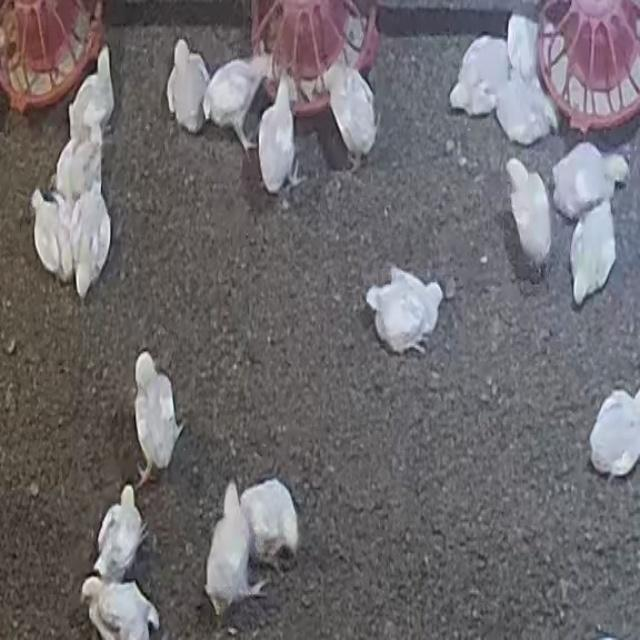chicken: (205, 480, 261, 618), (132, 352, 182, 489), (500, 157, 556, 271), (364, 269, 441, 350), (551, 143, 630, 220), (201, 57, 265, 150), (240, 476, 300, 572), (324, 63, 378, 165), (92, 484, 146, 584), (448, 36, 513, 118), (80, 573, 160, 639), (570, 199, 617, 304), (257, 75, 298, 194), (70, 184, 112, 300), (68, 47, 117, 146), (589, 386, 640, 481), (494, 73, 557, 147), (166, 38, 210, 134), (30, 189, 72, 282), (55, 132, 102, 208), (506, 10, 542, 82)
